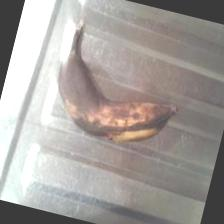Banana Rotten: (39, 24, 196, 162)
